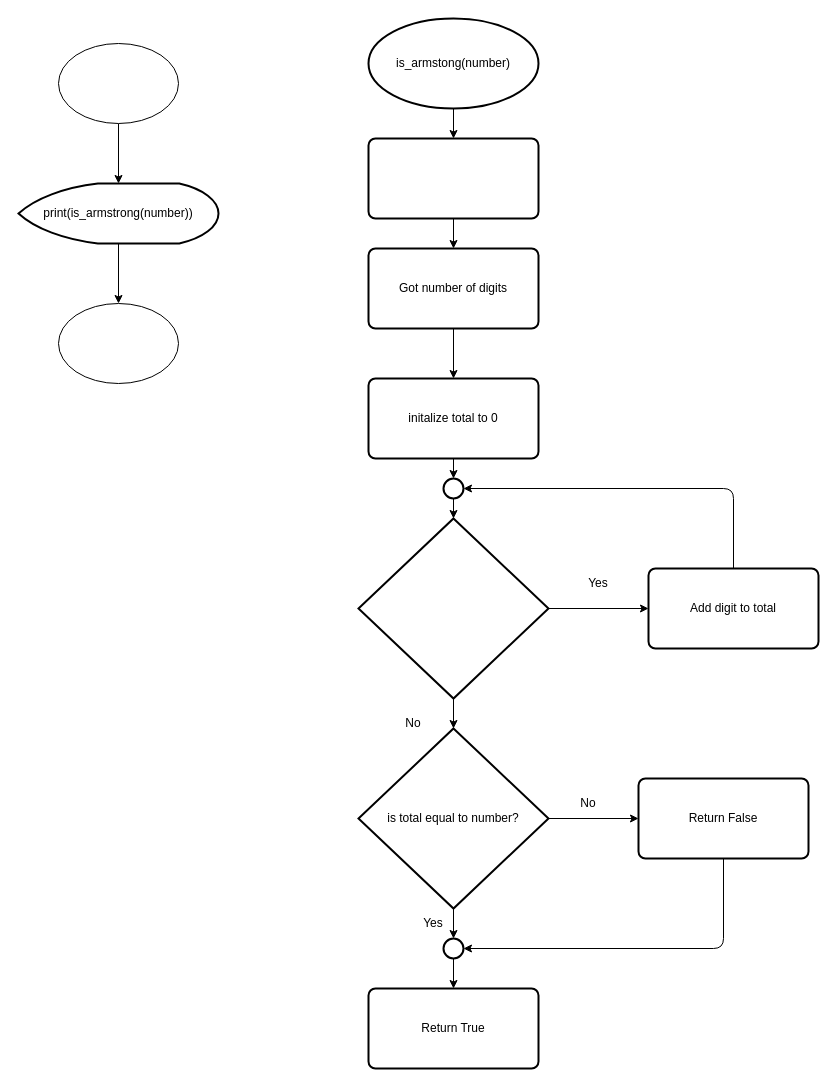
This 836x1086 diagram has some shape labels left out. The centre of each missing label's shape, as x and y in pixels:
"convert number to string" goes at [453,178].
"End" goes at [118,343].
"for each digit in string" goes at [453,608].
"Start" goes at [118,83].
